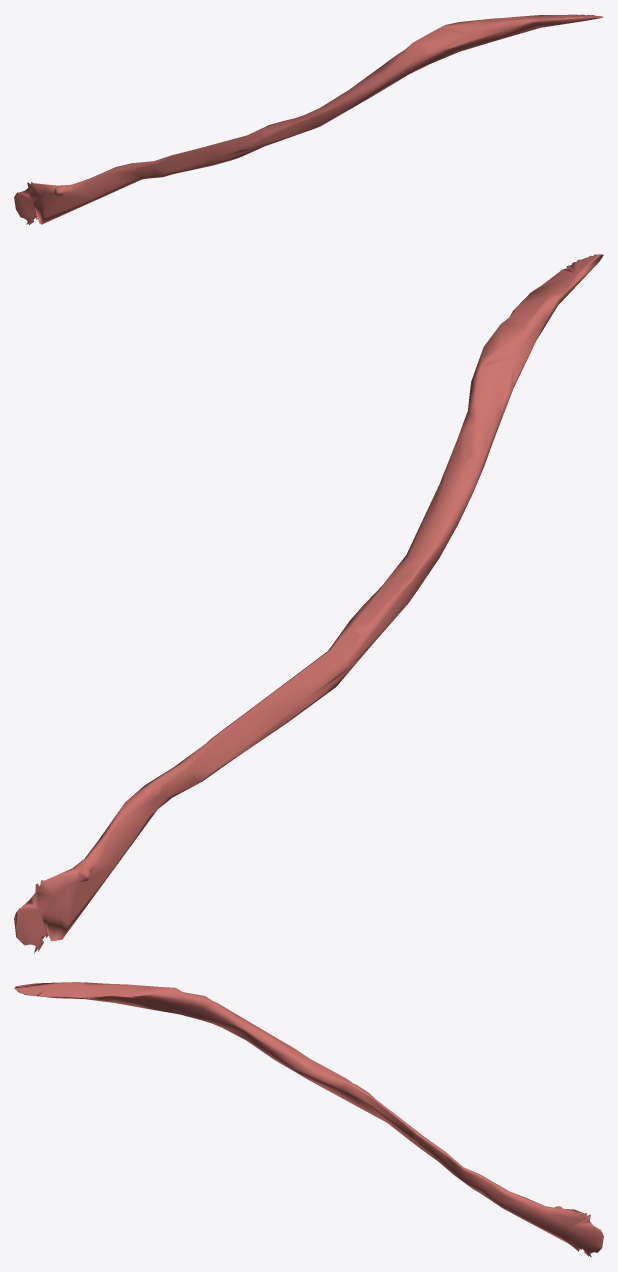
The picture shows the model from 3 angles, top to bottom: view 1: azimuth 90°, elevation 25°; view 2: azimuth 150°, elevation 25°; view 3: azimuth 270°, elevation 25°; orthographic projection. The views are drawn at different scales.
Visible parts, largest first — view 1: 左侧第三腓骨肌; view 2: 左侧第三腓骨肌; view 3: 左侧第三腓骨肌.
Boxes of the visible parts, bbox=[...] form: 左侧第三腓骨肌: bbox=[14, 14, 603, 224]; 左侧第三腓骨肌: bbox=[14, 254, 603, 953]; 左侧第三腓骨肌: bbox=[14, 982, 603, 1257].
Bounding box in the file's own units: 0.0375 × 0.0815 × 0.181.
